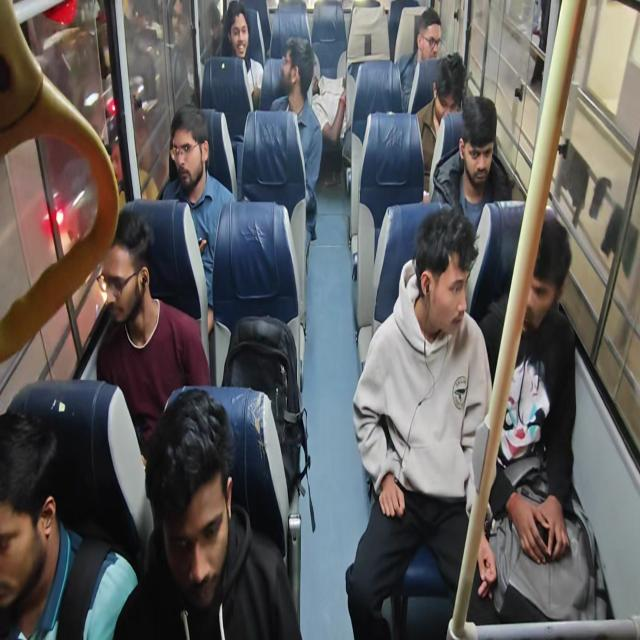person: (345, 206, 494, 638), (466, 208, 610, 626), (112, 387, 302, 639), (0, 0, 119, 364), (0, 408, 138, 638), (96, 207, 211, 463), (158, 103, 236, 334), (429, 94, 514, 232), (270, 36, 323, 246), (415, 52, 466, 187), (218, 0, 264, 110), (396, 7, 443, 112)
